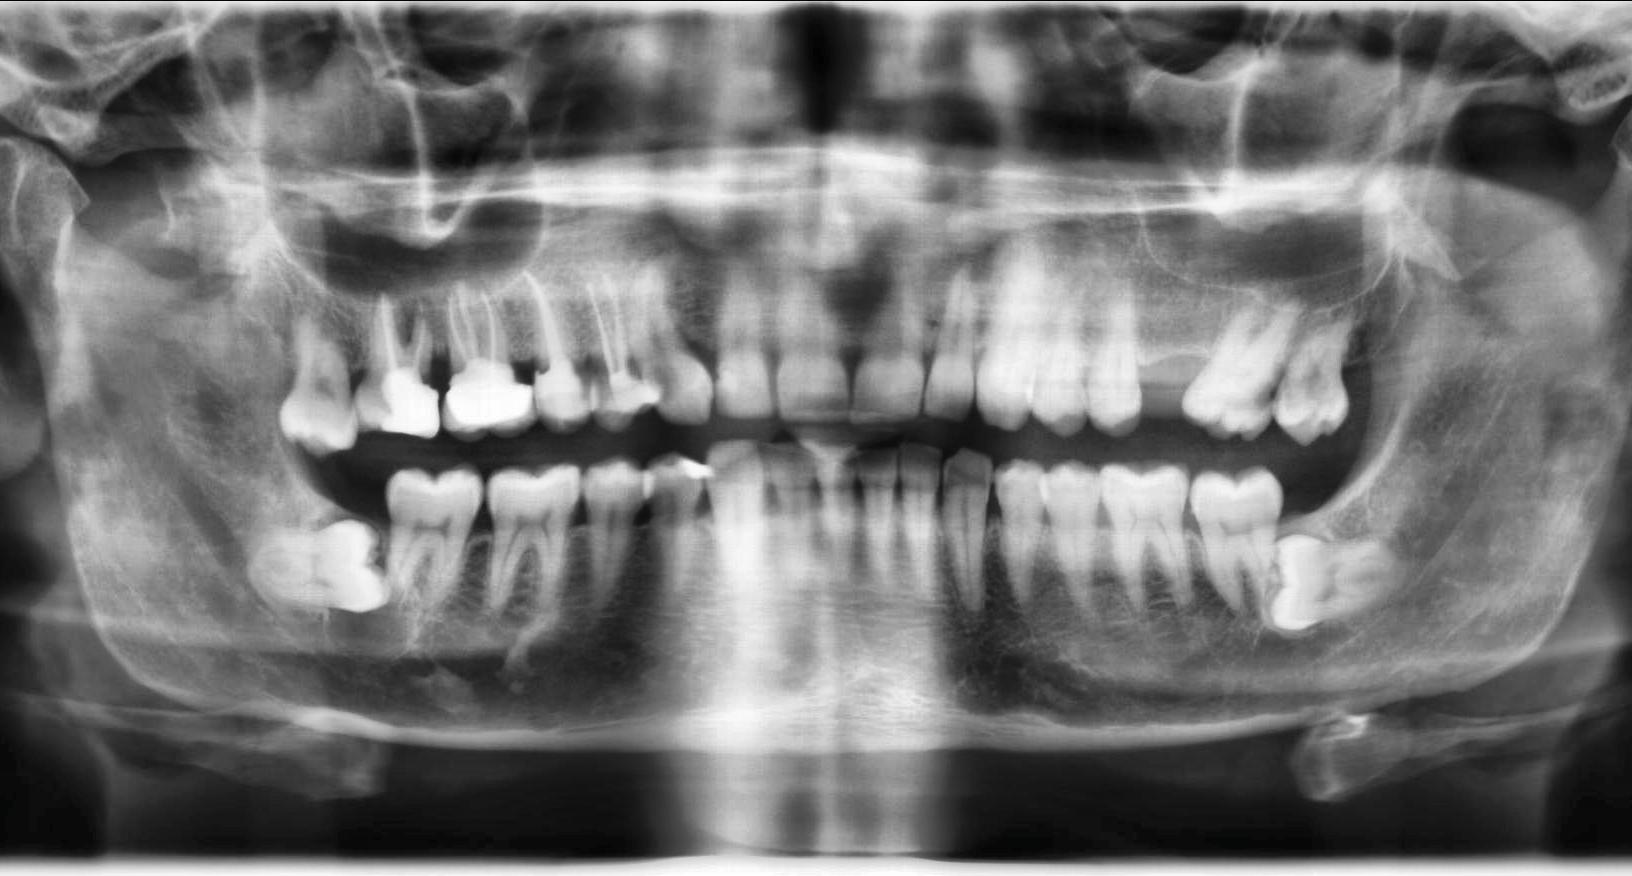dentigeroz: (325, 506, 414, 664)
